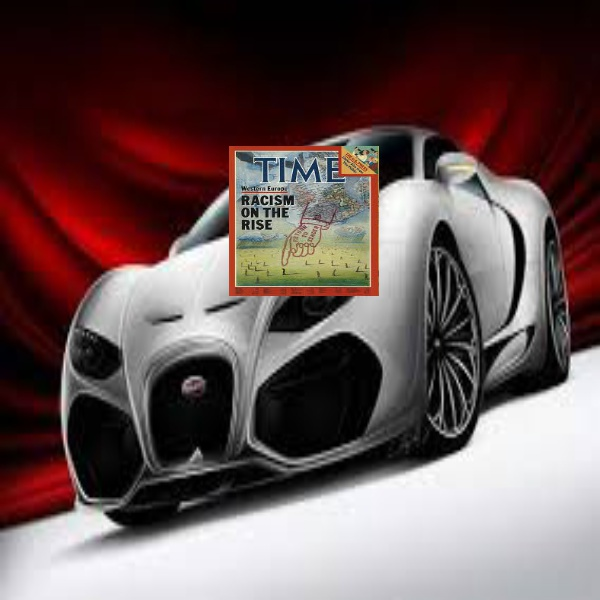time_cover: (218, 131, 390, 303)
